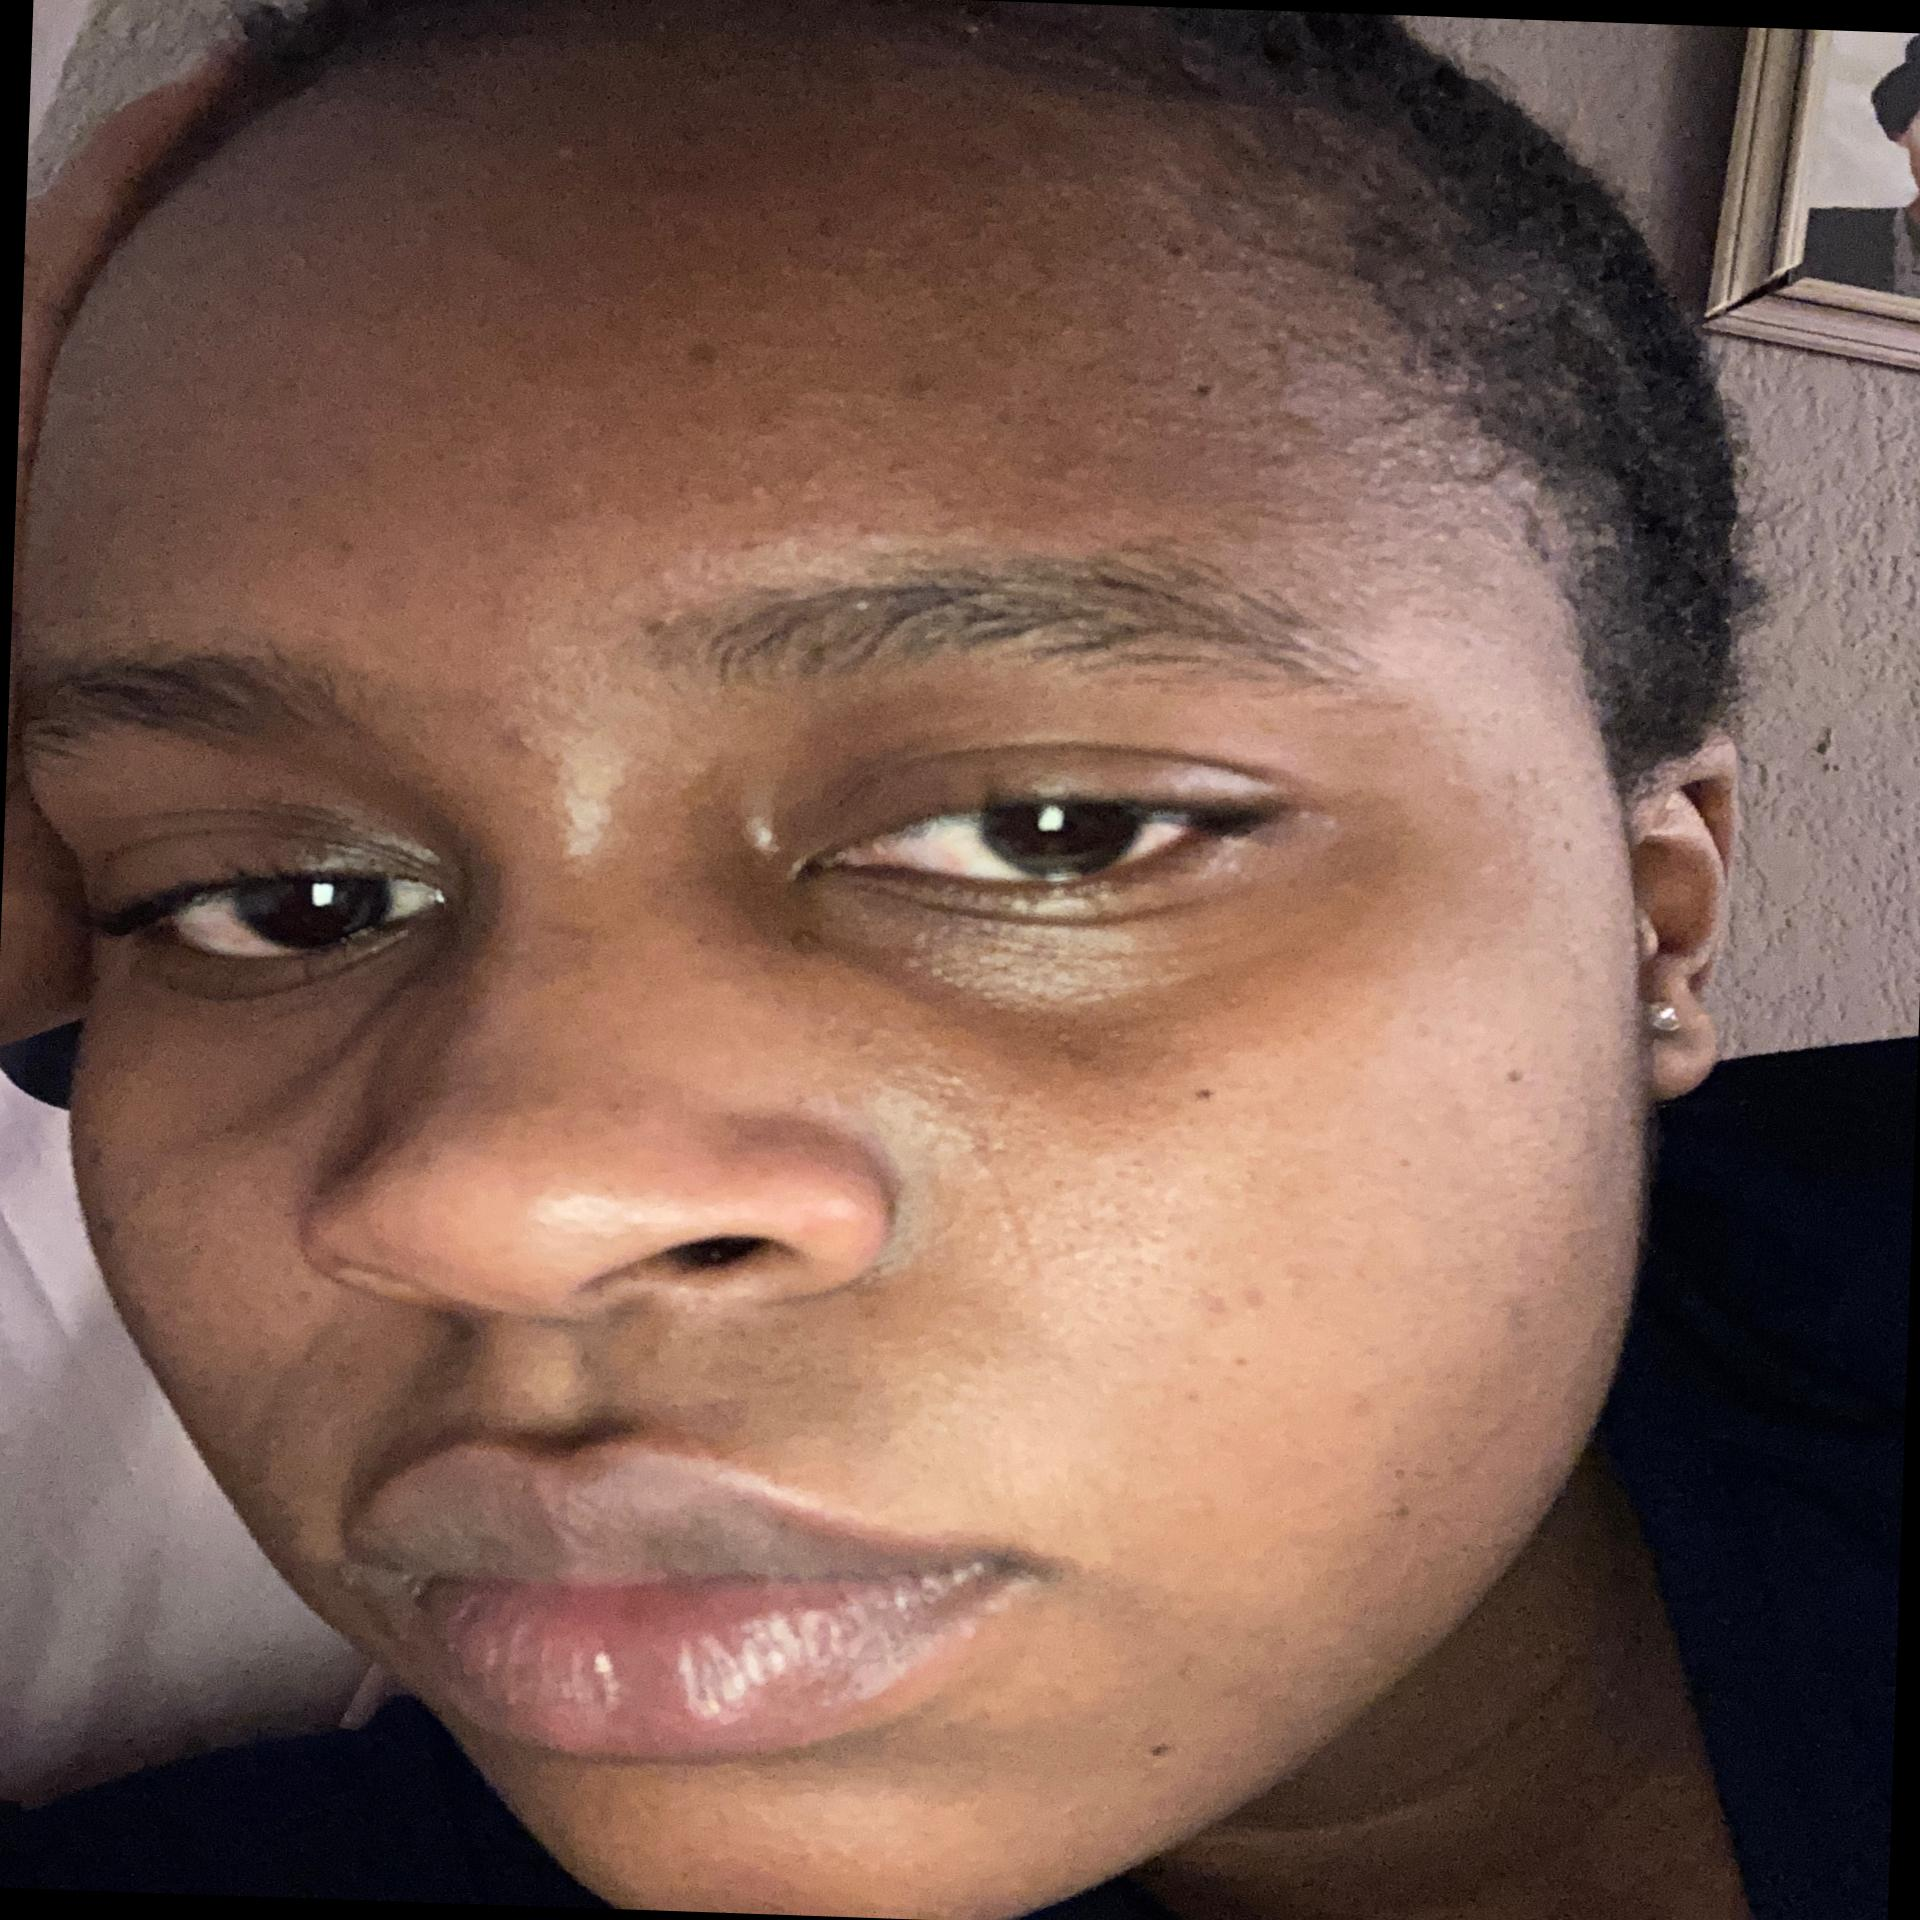Acne: (661, 464, 928, 536), (877, 364, 1057, 433), (686, 1349, 793, 1436), (1480, 1271, 1572, 1356), (1199, 1259, 1306, 1326), (503, 1078, 659, 1124), (489, 709, 582, 781), (661, 324, 747, 382), (1159, 375, 1255, 424), (1363, 1456, 1421, 1537), (1329, 1370, 1398, 1424), (1138, 222, 1206, 273), (524, 128, 598, 172), (318, 527, 389, 573)
Dark Circles: (730, 842, 1387, 1104), (111, 893, 457, 1143)
Wrinkles: (225, 1291, 348, 1496)
